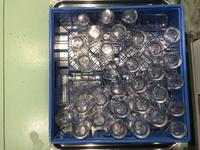Glass: (72, 73, 106, 92), (56, 73, 74, 105), (127, 115, 150, 139), (137, 14, 169, 31), (124, 30, 145, 54), (142, 41, 165, 62), (156, 28, 180, 48), (154, 52, 182, 69), (139, 65, 165, 83), (54, 106, 76, 127), (72, 115, 91, 139), (108, 116, 127, 140), (87, 24, 105, 49), (68, 34, 89, 55), (129, 95, 152, 114), (109, 97, 130, 117), (147, 84, 169, 103), (98, 40, 116, 63), (76, 53, 95, 73), (74, 94, 92, 115), (126, 76, 147, 94), (164, 73, 184, 91), (97, 9, 115, 29), (166, 122, 187, 139), (120, 9, 137, 30), (167, 99, 186, 117), (121, 57, 141, 74), (76, 13, 91, 35), (91, 110, 108, 129), (108, 25, 127, 42), (148, 111, 168, 127), (92, 90, 109, 108), (104, 60, 121, 78), (109, 79, 126, 96)
